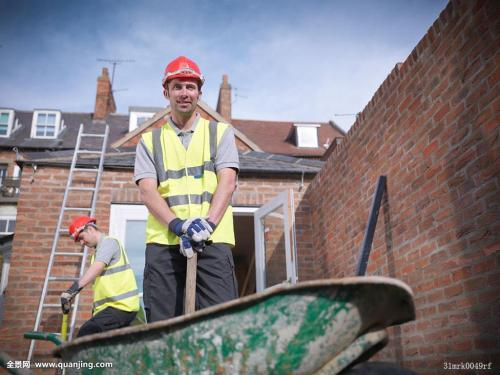gloves: (168, 217, 215, 259), (59, 280, 80, 313)
hard-hat: (162, 54, 204, 86), (69, 216, 97, 242)
person: (133, 54, 241, 323), (60, 214, 146, 337)
ppe-suit: (132, 112, 241, 322)
